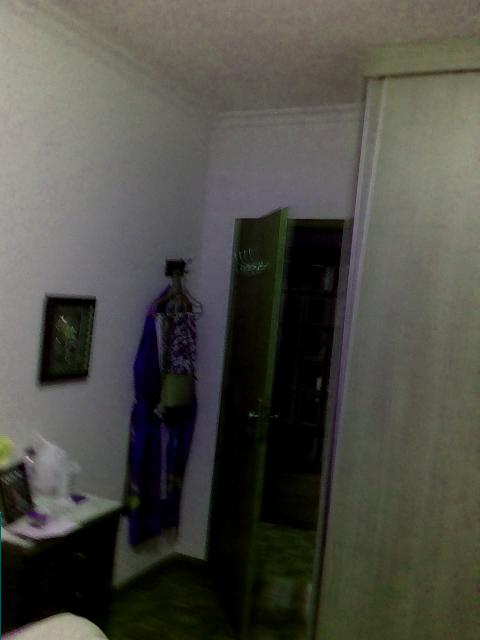semi_door: (202, 204, 356, 639)
